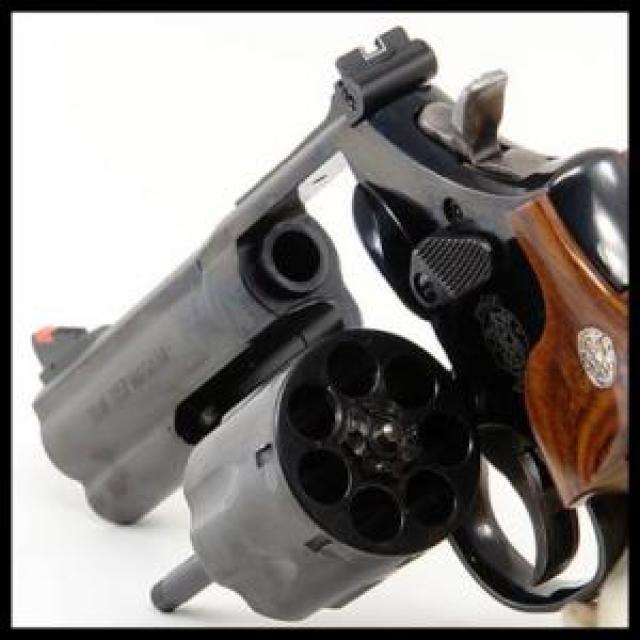pistol: (22, 28, 628, 612)
